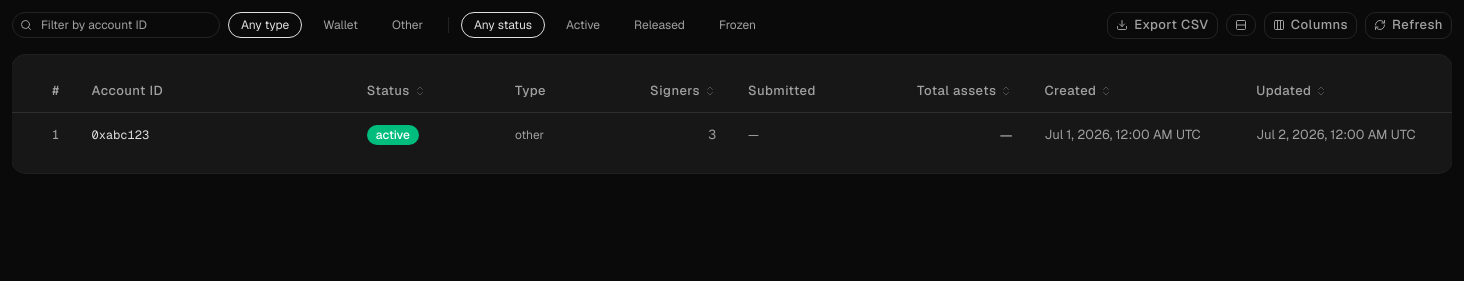
Scenario: accounts table controls › drops a column from the header and the body together
The image size is (1464, 281).
Click the button "Columns": x=1310, y=25 [1264,12,1357,39]
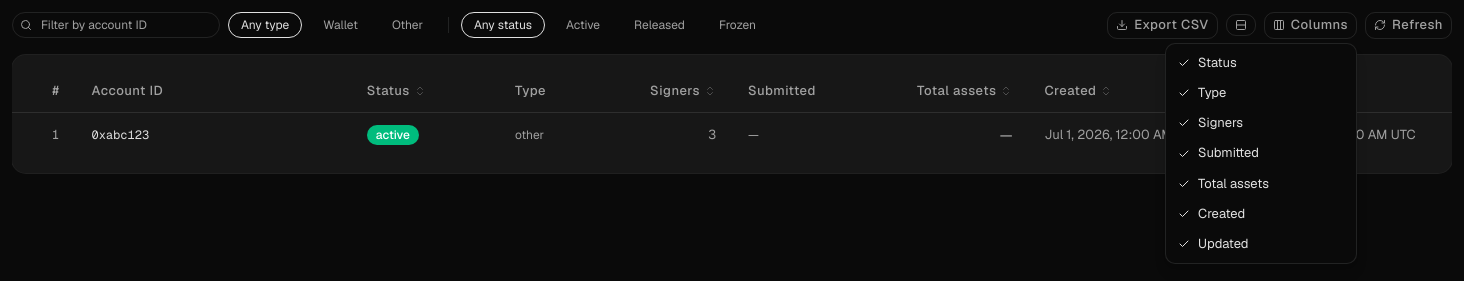
Click the menu item "Created": x=1261, y=214 [1170,199,1352,229]
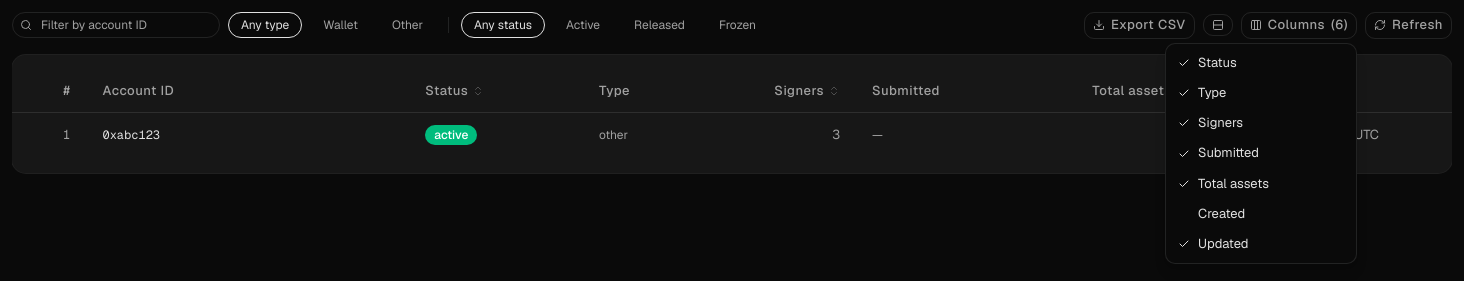
Check: the number of column headings is 8
Check: the number of cells is 8
